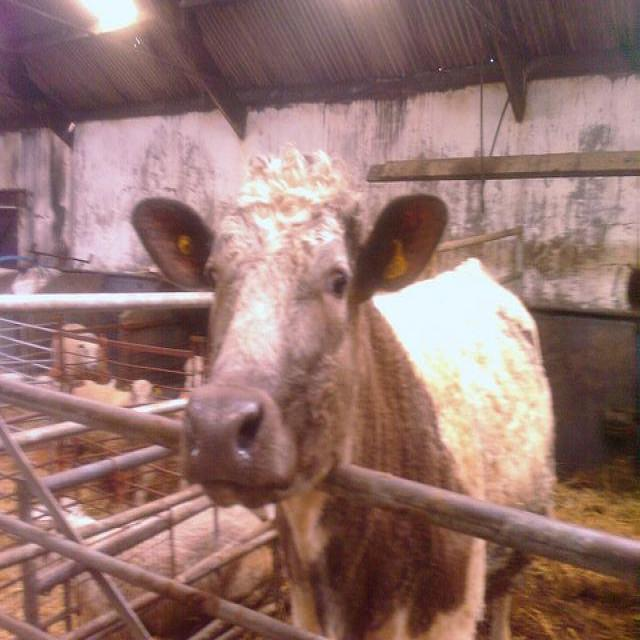Sheep: (122, 501, 277, 603), (50, 323, 100, 369)
